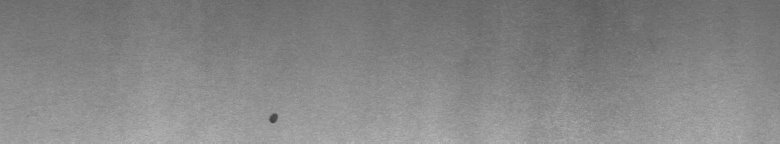fi: (264, 108, 283, 132)
